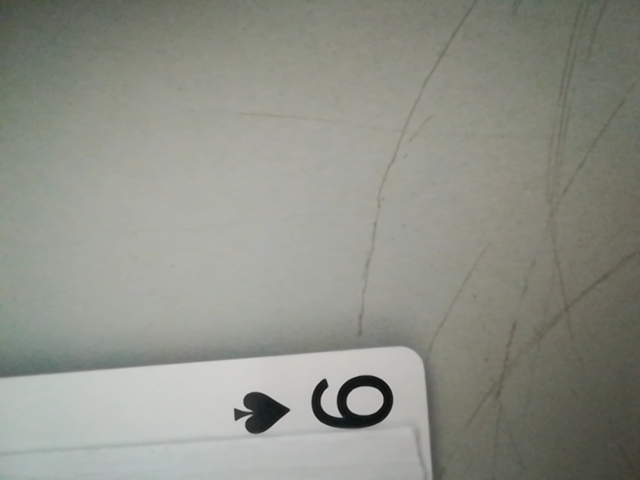ht 9: (214, 363, 413, 445)
